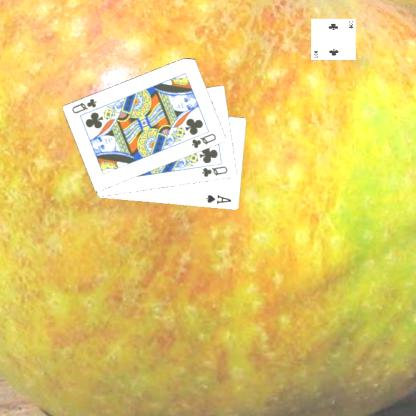AS: (205, 192, 235, 206)
QC: (190, 130, 220, 150), (71, 95, 100, 115), (201, 164, 231, 178)
